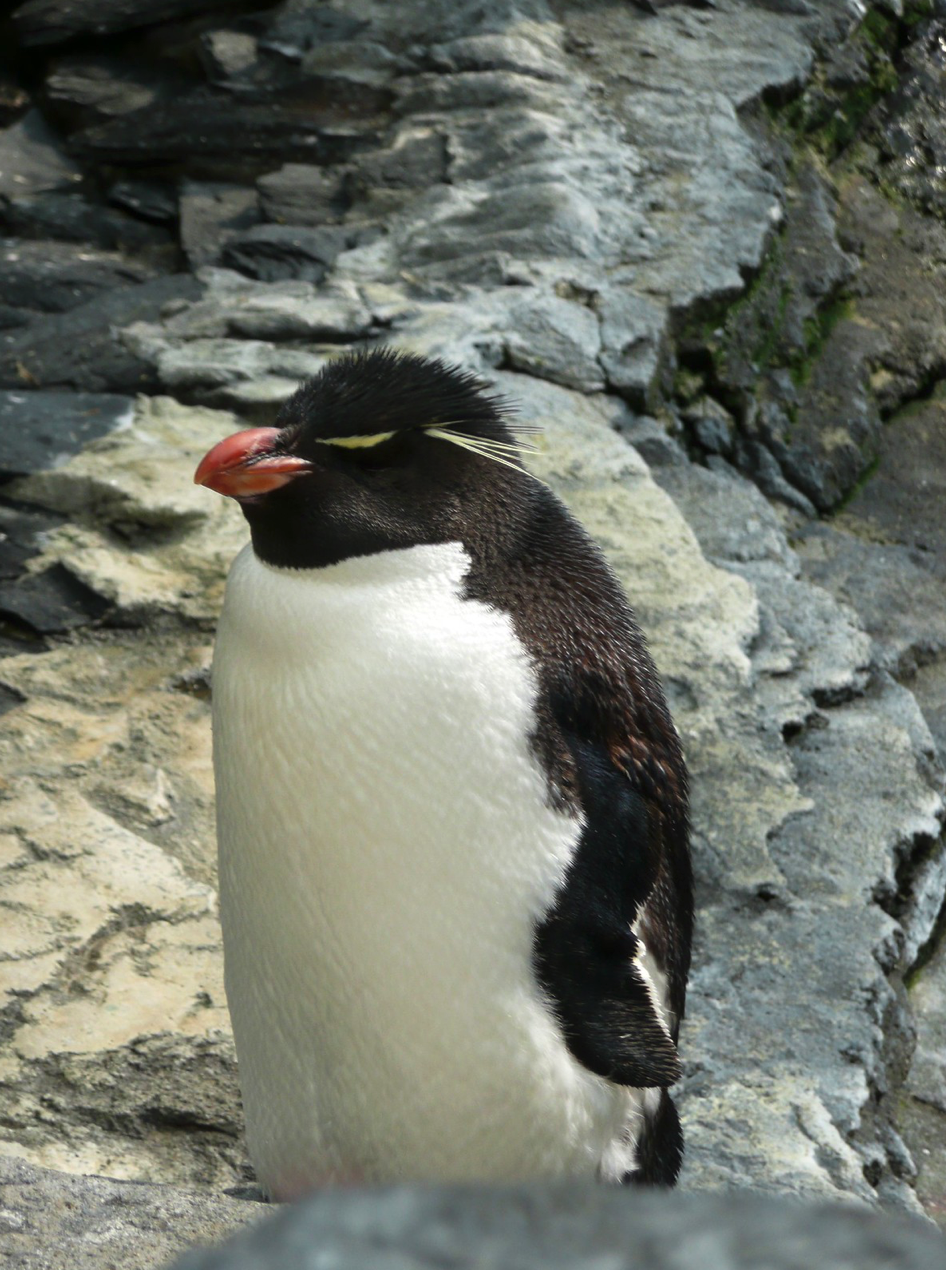penguin: (192, 338, 704, 1200)
